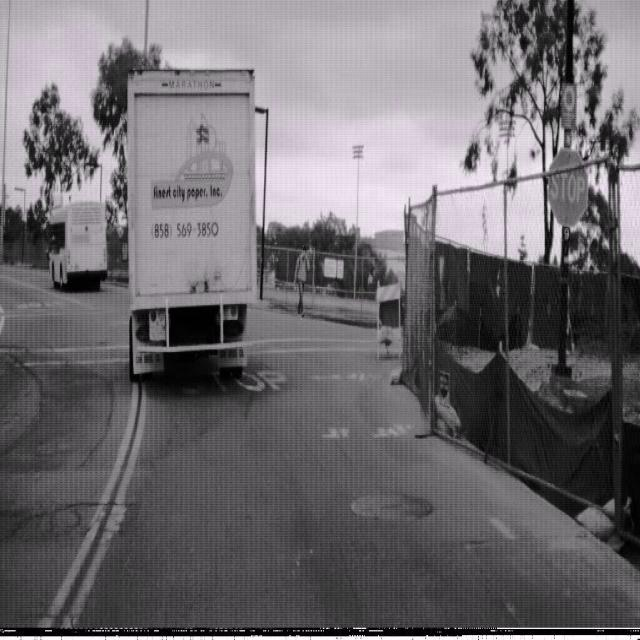stop: (547, 146, 589, 228)
